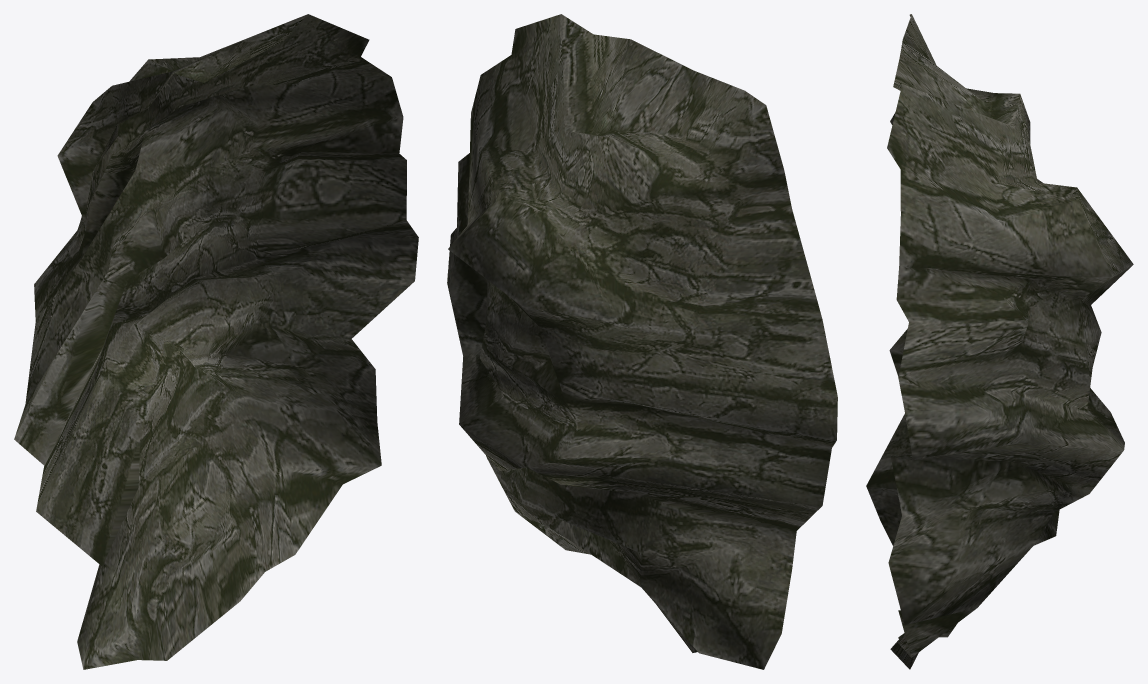
The model's file is d_rock6.FBX.
3 renders of one model, left to right at view 1: azimuth 30°, elevation 25°; view 2: azimuth 150°, elevation 25°; view 3: azimuth 270°, elevation 25°, orthographic. The views are drawn at different scales.
Parts seen in each view (by area): view 1: TI_Cliff_02_n_LOD_02; view 2: TI_Cliff_02_n_LOD_02; view 3: TI_Cliff_02_n_LOD_02.
Part boxes in pixels (left/top/right/bottom): TI_Cliff_02_n_LOD_02: left=14, top=14, right=418, bottom=669; TI_Cliff_02_n_LOD_02: left=447, top=14, right=837, bottom=669; TI_Cliff_02_n_LOD_02: left=866, top=14, right=1133, bottom=669.
Size of the model in its own units: 2.35 by 3.46 by 1.28.
